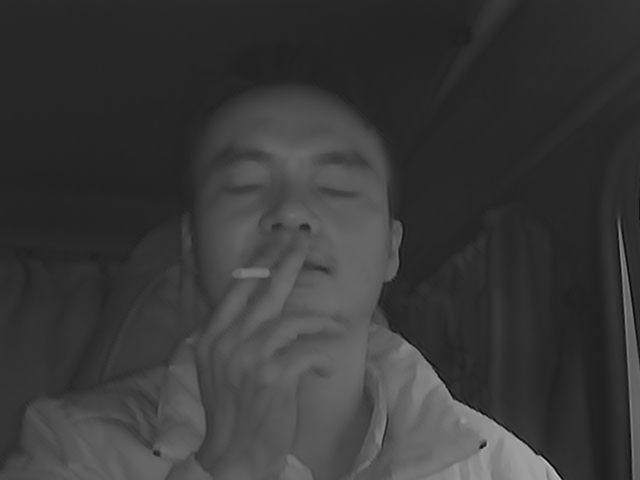hand: (204, 238, 340, 393)
